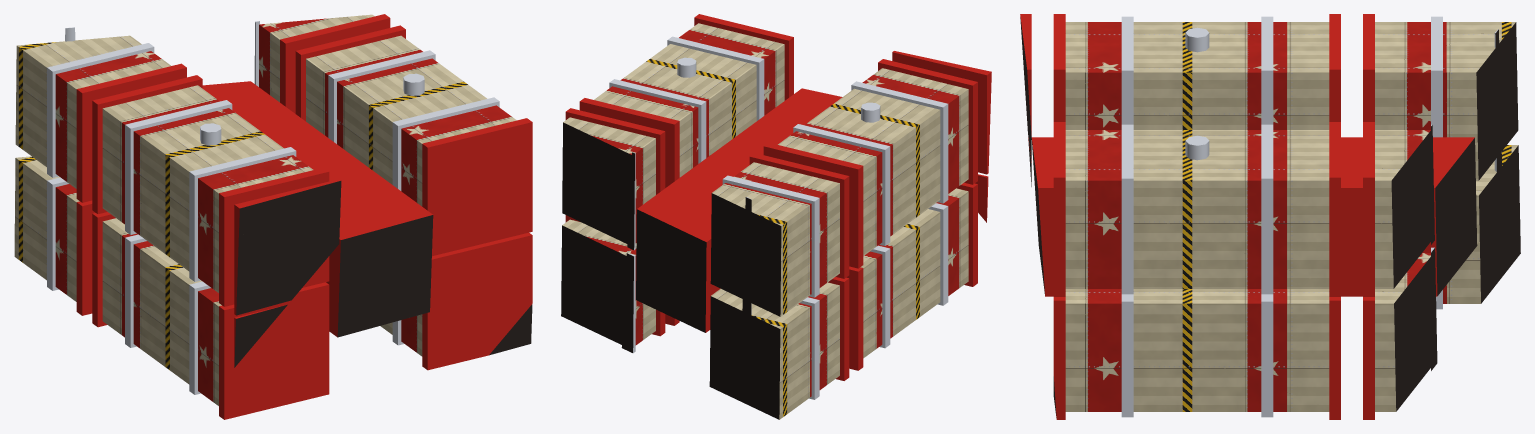
Rendered from supply_ship_debris2.obj.
3 views of the same model, side by side, from view 1: azimuth 30°, elevation 25°; view 2: azimuth 150°, elevation 25°; view 3: azimuth 270°, elevation 25° (orthographic). The views are drawn at different scales.
Visible parts, largest first — view 1: container, end_frame, spine, rib, latch; view 2: container, end_frame, spine, rib, latch; view 3: container, end_frame, rib, spine, latch.
Part boxes in pixels (<box>): container: <box>14,14,516,405</box>; end_frame: <box>76,14,532,419</box>; spine: <box>202,81,433,337</box>; rib: <box>47,21,499,394</box>; latch: <box>65,27,424,145</box>; container: <box>561,23,968,419</box>; end_frame: <box>565,14,991,380</box>; spine: <box>636,88,842,332</box>; rib: <box>609,36,948,399</box>; latch: <box>677,57,880,314</box>; container: <box>1021,22,1520,411</box>; end_frame: <box>1020,14,1374,419</box>; rib: <box>1121,16,1442,417</box>; spine: <box>1031,137,1477,296</box>; latch: <box>1185,27,1501,171</box>.
Bounding box in the file's own units: 19.4 × 13.9 × 25.09.
Materials: 4 (1 with a texture image).
